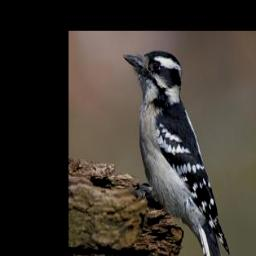Woodpecker: (123, 46, 231, 256)
